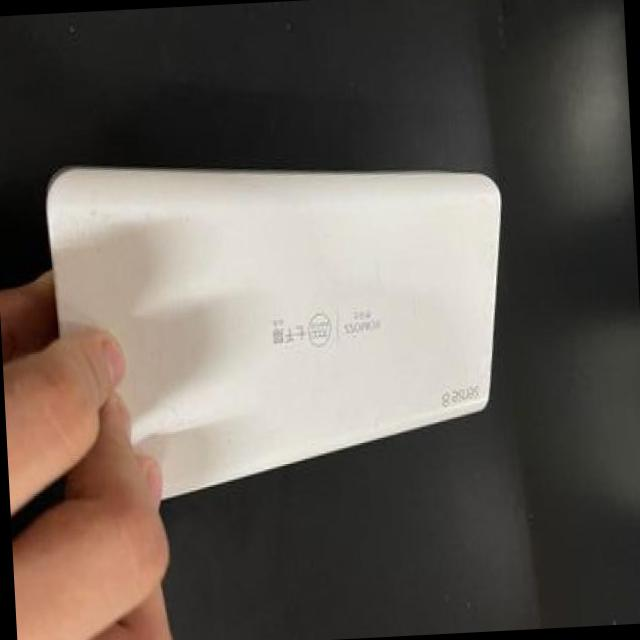power_bank: (22, 130, 520, 528)
